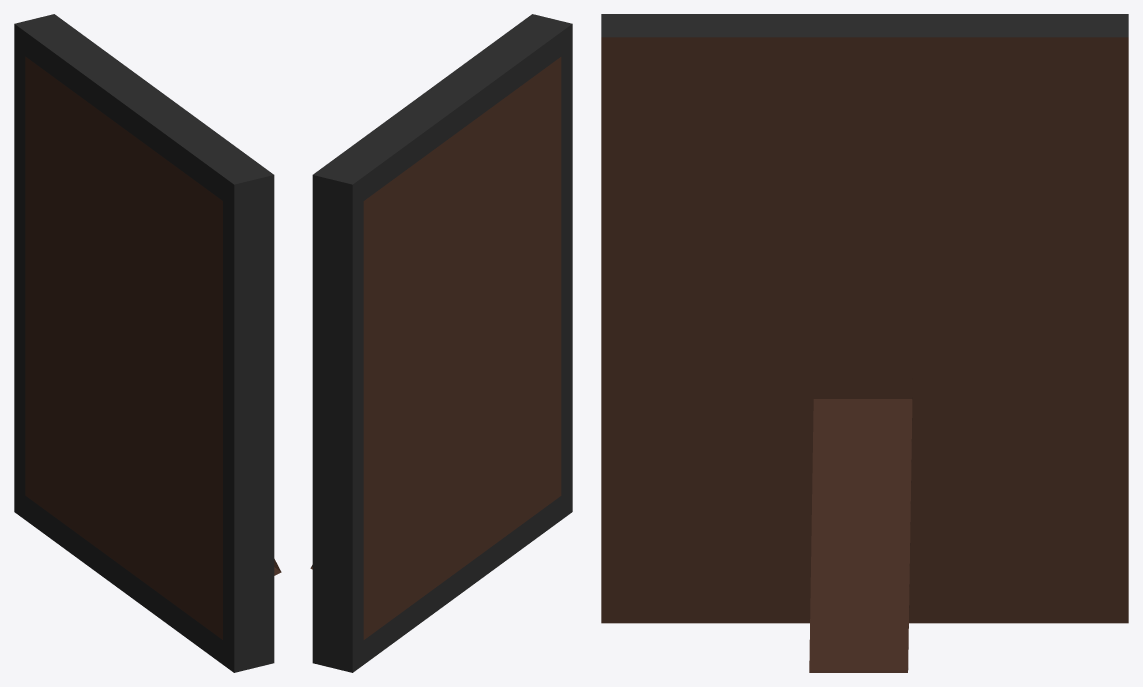
The model's file is SmallPainting.fbx.
3 renders of one model, left to right at view 1: azimuth 30°, elevation 25°; view 2: azimuth 150°, elevation 25°; view 3: azimuth 270°, elevation 25°, orthographic. The views are drawn at different scales.
Visible parts, largest first — view 1: Cube.001; view 2: Cube.001; view 3: Cube.001.
Part boxes in pixels (x1,y1,x2,y2): Cube.001: (14, 14, 281, 672); Cube.001: (310, 14, 572, 672); Cube.001: (601, 14, 1128, 672).
Bounding box in the file's own units: 10.75 × 37.41 × 30.52.
